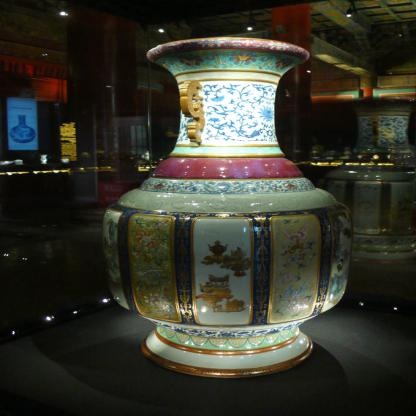vase: (102, 38, 354, 380)
